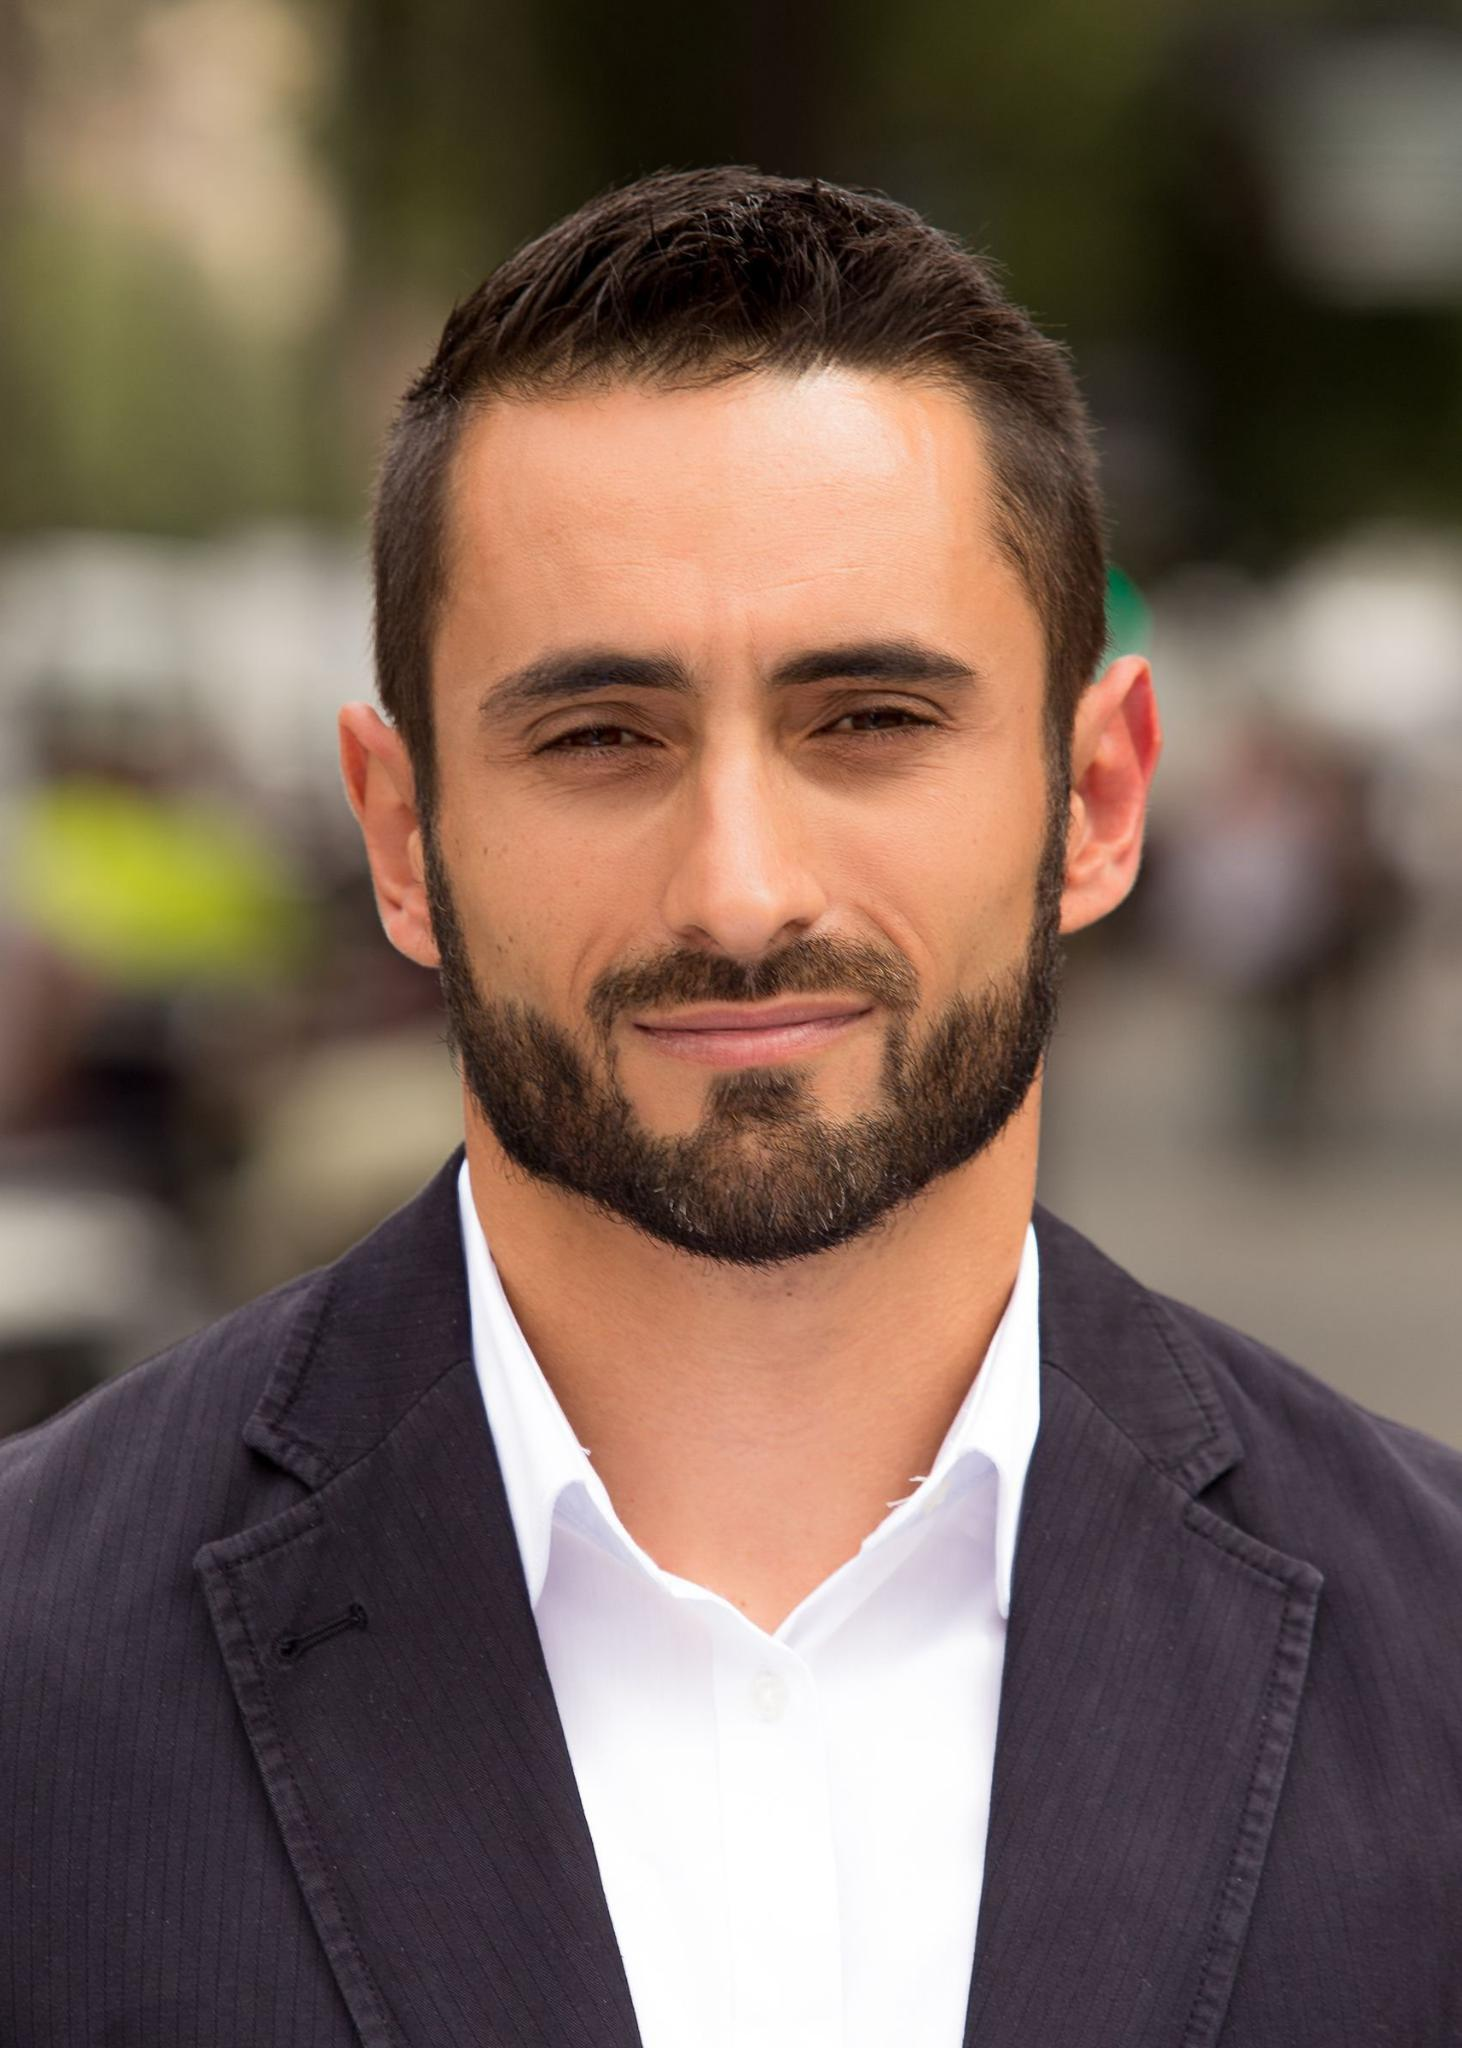Sober: (448, 395, 1052, 1178)
